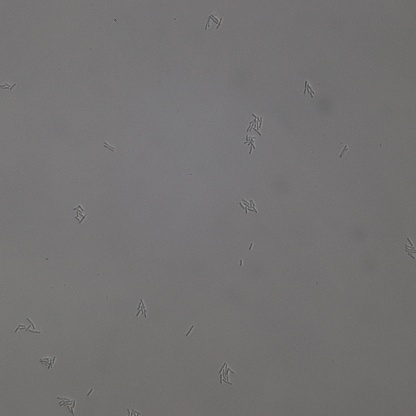R(colony): (13, 318, 41, 335), (218, 362, 235, 388), (57, 395, 76, 415), (247, 112, 262, 135), (239, 197, 259, 213), (204, 14, 222, 30), (71, 205, 86, 224), (404, 237, 416, 260), (39, 356, 56, 369), (134, 299, 147, 316), (244, 136, 257, 153), (303, 81, 315, 98), (1, 81, 17, 90), (102, 142, 114, 152)
